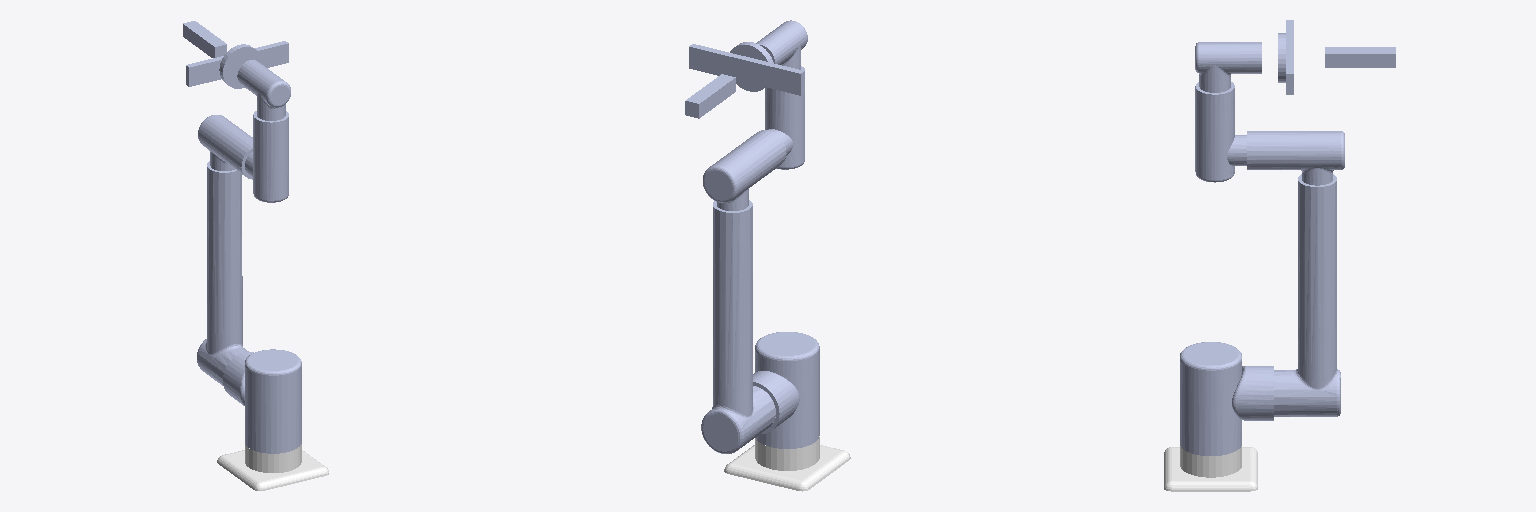
URDF robot description (bobby_v3):
<?xml version="1.0" encoding="utf-8"?>
<!-- This URDF was automatically created by SolidWorks to URDF Exporter! Originally created by Stephen Brawner (brawner@gmail.com) 
     Commit Version: 1.6.0-4-g7f85cfe  Build Version: 1.6.7995.38578
     For more information, please see http://wiki.ros.org/sw_urdf_exporter -->
<robot
  name="bobby_v3">
  <link
    name="base_link">
    <inertial>
      <origin
        xyz="-6.93889390390723E-18 -8.67361737988404E-18 0.00903009179983284"
        rpy="0 0 0" />
      <mass
        value="0.168853238991176" />
      <inertia
        ixx="0.000188908722369925"
        ixy="-5.7902642878712E-21"
        ixz="4.9831826221772E-21"
        iyy="0.000188908722369926"
        iyz="-1.68425616825269E-20"
        izz="0.000347553571686864" />
    </inertial>
    <visual>
      <origin
        xyz="0 0 0"
        rpy="0 0 0" />
      <geometry>
        <mesh
          filename="package://bobby/meshes/base_link.STL" />
      </geometry>
      <material
        name="">
        <color
          rgba="1 1 1 1" />
      </material>
    </visual>
    <collision>
      <origin
        xyz="0 0 0"
        rpy="0 0 0" />
      <geometry>
        <mesh
          filename="package://bobby/meshes/base_link.STL" />
      </geometry>
    </collision>
  </link>
  <link
    name="link_1">
    <inertial>
      <origin
        xyz="-2.15652112519824E-07 0.0107734448420019 0.109157368914489"
        rpy="0 0 0" />
      <mass
        value="0.19567354215977" />
      <inertia
        ixx="0.00036569472644765"
        ixy="3.25955315579442E-10"
        ixz="1.75361435601525E-09"
        iyy="0.000399646100597159"
        iyz="5.8509284245807E-07"
        izz="0.000228564395108126" />
    </inertial>
    <visual>
      <origin
        xyz="0 0 0"
        rpy="0 0 0" />
      <geometry>
        <mesh
          filename="package://bobby/meshes/link_1.STL" />
      </geometry>
      <material
        name="">
        <color
          rgba="0.792156862745098 0.819607843137255 0.933333333333333 1" />
      </material>
    </visual>
    <collision>
      <origin
        xyz="0 0 0"
        rpy="0 0 0" />
      <geometry>
        <mesh
          filename="package://bobby/meshes/link_1.STL" />
      </geometry>
    </collision>
  </link>
  <joint
    name="joint_1"
    type="revolute">
    <origin
      xyz="0 0 0"
      rpy="0 0 0" />
    <parent
      link="base_link" />
    <child
      link="link_1" />
    <axis
      xyz="0 0 1" />
    <limit
      lower="-3.14"
      upper="3.14"
      effort="80"
      velocity="1.5" />
    <dynamics
      damping="0.2" />
  </joint>
  <link
    name="link_2">
    <inertial>
      <origin
        xyz="-1.60868451060114E-08 -0.114041602248857 0.132749921878617"
        rpy="0 0 0" />
      <mass
        value="0.277035202004268" />
      <inertia
        ixx="0.00289478457764281"
        ixy="-1.24048336188053E-09"
        ixz="1.22368569354385E-09"
        iyy="0.000189976410051189"
        iyz="7.94253254153287E-05"
        izz="0.00286373711090803" />
    </inertial>
    <visual>
      <origin
        xyz="0 0 0"
        rpy="0 0 0" />
      <geometry>
        <mesh
          filename="package://bobby/meshes/link_2.STL" />
      </geometry>
      <material
        name="">
        <color
          rgba="0.792156862745098 0.819607843137255 0.933333333333333 1" />
      </material>
    </visual>
    <collision>
      <origin
        xyz="0 0 0"
        rpy="0 0 0" />
      <geometry>
        <mesh
          filename="package://bobby/meshes/link_2.STL" />
      </geometry>
    </collision>
  </link>
  <joint
    name="joint_2"
    type="revolute">
    <origin
      xyz="0 0 0.11"
      rpy="-1.5707963267949 0 0" />
    <parent
      link="link_1" />
    <child
      link="link_2" />
    <axis
      xyz="0 0 1" />
    <limit
      lower="-2"
      upper="2"
      effort="60"
      velocity="1.5" />
    <dynamics
      damping="0.15" />
  </joint>
  <link
    name="link_3">
    <inertial>
      <origin
        xyz="-4.46835846875521E-07 -0.021332834225784 0.336950985055037"
        rpy="0 0 0" />
      <mass
        value="0.104323112073039" />
      <inertia
        ixx="0.000172552084016025"
        ixy="1.24275852401533E-10"
        ixz="-1.16774421742549E-10"
        iyy="5.69008711097092E-05"
        iyz="6.87130934985452E-06"
        izz="0.000165314592613562" />
    </inertial>
    <visual>
      <origin
        xyz="0 0 0"
        rpy="0 0 0" />
      <geometry>
        <mesh
          filename="package://bobby/meshes/link_3.STL" />
      </geometry>
      <material
        name="">
        <color
          rgba="0.792156862745098 0.819607843137255 0.933333333333333 1" />
      </material>
    </visual>
    <collision>
      <origin
        xyz="0 0 0"
        rpy="0 0 0" />
      <geometry>
        <mesh
          filename="package://bobby/meshes/link_3.STL" />
      </geometry>
    </collision>
  </link>
  <joint
    name="joint_3"
    type="revolute">
    <origin
      xyz="0 0 0.135"
      rpy="1.5707963267949 0 0" />
    <parent
      link="link_2" />
    <child
      link="link_3" />
    <axis
      xyz="0 0 -1" />
    <limit
      lower="-2.5"
      upper="2.5"
      effort="40"
      velocity="2" />
    <dynamics
      damping="0.1" />
  </joint>
  <link
    name="link_4">
    <inertial>
      <origin
        xyz="-7.35759638319233E-08 0.0214973669189123 0.127010226840711"
        rpy="0 0 0" />
      <mass
        value="0.104021403954901" />
      <inertia
        ixx="0.000172095228395825"
        ixy="5.22139873101622E-11"
        ixz="-7.41592698784508E-11"
        iyy="5.67379606621111E-05"
        iyz="-6.68507413422721E-06"
        izz="0.000164961710546567" />
    </inertial>
    <visual>
      <origin
        xyz="0 0 0"
        rpy="0 0 0" />
      <geometry>
        <mesh
          filename="package://bobby/meshes/link_4.STL" />
      </geometry>
      <material
        name="">
        <color
          rgba="0.792156862745098 0.819607843137255 0.933333333333333 1" />
      </material>
    </visual>
    <collision>
      <origin
        xyz="0 0 0"
        rpy="0 0 0" />
      <geometry>
        <mesh
          filename="package://bobby/meshes/link_4.STL" />
      </geometry>
    </collision>
  </link>
  <joint
    name="joint_4"
    type="revolute">
    <origin
      xyz="0 0.000262563950500366 0.34"
      rpy="1.5707963267949 0 0" />
    <parent
      link="link_3" />
    <child
      link="link_4" />
    <axis
      xyz="0 0 -1" />
    <limit
      lower="-3.14"
      upper="3.14"
      effort="20"
      velocity="3" />
    <dynamics
      damping="0.05" />
  </joint>
  <link
    name="link_5">
    <inertial>
      <origin
        xyz="-7.72747078825464E-09 0.0118852064404541 0.124078122231419"
        rpy="0 0 0" />
      <mass
        value="0.0635312499775335" />
      <inertia
        ixx="5.3078651829625E-05"
        ixy="-2.16462957974075E-11"
        ixz="-2.18923663634894E-11"
        iyy="2.59966766341151E-05"
        iyz="-4.43828682190682E-06"
        izz="4.66910033521407E-05" />
    </inertial>
    <visual>
      <origin
        xyz="0 0 0"
        rpy="0 0 0" />
      <geometry>
        <mesh
          filename="package://bobby/meshes/link_5.STL" />
      </geometry>
      <material
        name="">
        <color
          rgba="0.792156862745098 0.819607843137255 0.933333333333333 1" />
      </material>
    </visual>
    <collision>
      <origin
        xyz="0 0 0"
        rpy="0 0 0" />
      <geometry>
        <mesh
          filename="package://bobby/meshes/link_5.STL" />
      </geometry>
    </collision>
  </link>
  <joint
    name="joint_5"
    type="revolute">
    <origin
      xyz="0 -0.000178126389957234 0.13"
      rpy="-1.5707963267949 0 0" />
    <parent
      link="link_4" />
    <child
      link="link_5" />
    <axis
      xyz="0 0 -1" />
    <limit
      lower="-2"
      upper="2"
      effort="15"
      velocity="3.5" />
    <dynamics
      damping="0.05" />
  </joint>
  <link
    name="link_6">
    <inertial>
      <origin
        xyz="-9.09411435046081E-14 -4.99933427988708E-13 0.00443393044915172"
        rpy="0 0 0" />
      <mass
        value="0.0247796339074861" />
      <inertia
        ixx="5.79719477129161E-06"
        ixy="1.69371937738642E-21"
        ixz="-1.74584771115396E-21"
        iyy="5.61206813663289E-06"
        iyz="1.25047386620786E-20"
        izz="8.2664668127508E-06" />
    </inertial>
  </link>
  <joint
    name="joint_6"
    type="revolute">
    <origin
      xyz="0 0.0700000000012193 0.129999999999002"
      rpy="-1.57079632679489 0 0" />
    <parent
      link="link_5" />
    <child
      link="link_6" />
    <axis
      xyz="0 0 -1" />
    <limit
      lower="-3.14"
      upper="3.14"
      effort="10"
      velocity="4" />
    <dynamics
      damping="0.03" />
  </joint>
  <!-- ===================== Parallelbackengreifer (an link_5) ===================== -->
  <!-- Flanschplatte -->
  <link name="gripper_flange">
    <inertial>
      <origin xyz="0 0 0.005" rpy="0 0 0"/>
      <mass value="0.2"/>
      <inertia ixx="6.782e-05" ixy="0" ixz="0" iyy="6.782e-05" iyz="0" izz="1.323e-04"/>
    </inertial>
    <visual>
      <origin xyz="0 0 0.005" rpy="0 0 0"/>
      <geometry><cylinder radius="0.0315" length="0.01"/></geometry>
      <material name="gripper_grey"><color rgba="0.792156862745098 0.819607843137255 0.933333333333333 1"/></material>
    </visual>
    <collision>
      <origin xyz="0 0 0.005" rpy="0 0 0"/>
      <geometry><cylinder radius="0.0315" length="0.01"/></geometry>
    </collision>
  </link>
  <joint name="gripper_flange_joint" type="fixed">
    <origin xyz="0 0 0.01" rpy="0 0 0"/>
    <parent link="link_6"/>
    <child link="gripper_flange"/>
    <axis xyz="0 0 0"/>
  </joint>

  <!-- Greiferkörper -->
  <link name="gripper_base">
    <inertial>
      <origin xyz="0 0 0.015" rpy="0 0 0"/>
      <mass value="0.045"/>
      <inertia ixx="3.75e-06" ixy="0" ixz="0" iyy="9.638e-05" iyz="0" izz="9.938e-05"/>
    </inertial>
    <visual>
      <origin xyz="0 0 0.015" rpy="0 0 0"/>
      <geometry><box size="0.16 0.03 0.01"/></geometry>
      <material name="gripper_grey"/>
    </visual>
    <collision>
      <origin xyz="0 0 0.015" rpy="0 0 0"/>
      <geometry><box size="0.16 0.03 0.01"/></geometry>
    </collision>
  </link>
  <joint name="gripper_base_joint" type="fixed">
    <origin xyz="0 0 0" rpy="0 0 0"/>
    <parent link="gripper_flange"/>
    <child link="gripper_base"/>
    <axis xyz="0 0 0"/>
  </joint>

  <!-- Linke Backe (angetrieben) -->
  <link name="finger_left">
    <inertial>
      <origin xyz="0 0 0.045" rpy="0 0 0"/>
      <mass value="0.05"/>
      <inertia ixx="3.542e-05" ixy="0" ixz="0" iyy="3.417e-05" iyz="0" izz="2.083e-06"/>
    </inertial>
    <visual>
      <origin xyz="0 0 0.045" rpy="0 0 0"/>
      <geometry><box size="0.01 0.02 0.09"/></geometry>
      <material name="gripper_grey"/>
    </visual>
    <collision>
      <origin xyz="0 0 0.045" rpy="0 0 0"/>
      <geometry><box size="0.01 0.02 0.09"/></geometry>
    </collision>
  </link>
  <joint name="finger_left_joint" type="prismatic">
    <origin xyz="0.005 0 0.060000000000000005" rpy="0 0 0"/>
    <parent link="gripper_base"/>
    <child link="finger_left"/>
    <axis xyz="1 0 0"/>
    <limit lower="0" upper="0.075" effort="50" velocity="0.1"/>
    <dynamics damping="5.0"/>
  </joint>

  <!-- Rechte Backe (gegenläufig gekoppelt) -->
  <link name="finger_right">
    <inertial>
      <origin xyz="0 0 0.045" rpy="0 0 0"/>
      <mass value="0.05"/>
      <inertia ixx="3.542e-05" ixy="0" ixz="0" iyy="3.417e-05" iyz="0" izz="2.083e-06"/>
    </inertial>
    <visual>
      <origin xyz="0 0 0.045" rpy="0 0 0"/>
      <geometry><box size="0.01 0.02 0.09"/></geometry>
      <material name="gripper_grey"/>
    </visual>
    <collision>
      <origin xyz="0 0 0.045" rpy="0 0 0"/>
      <geometry><box size="0.01 0.02 0.09"/></geometry>
    </collision>
  </link>
  <joint name="finger_right_joint" type="prismatic">
    <origin xyz="-0.005 0 0.060000000000000005" rpy="0 0 0"/>
    <parent link="gripper_base"/>
    <child link="finger_right"/>
    <axis xyz="1 0 0"/>
    <limit lower="-0.075" upper="0" effort="50" velocity="0.1"/>
    <mimic joint="finger_left_joint" multiplier="-1" offset="0"/>
    <dynamics damping="5.0"/>
  </joint>

  <!-- TCP: mittig zwischen den Backen, an der Backenspitze -->
  <link name="TCP"/>
  <joint name="TCP_joint" type="fixed">
    <origin xyz="0 0 0.15" rpy="0 0 0"/>
    <parent link="gripper_base"/>
    <child link="TCP"/>
    <axis xyz="0 0 0"/>
  </joint>
</robot>

--- Render facts (derived) ---
Views: 3 orthographic renders of the robot side by side, from view 1: azimuth 30°, elevation 25°; view 2: azimuth 150°, elevation 25°; view 3: azimuth 270°, elevation 25°.
Robot: bobby_v3 — 12 links, 11 joints (6 revolute, 2 prismatic, 3 fixed); root link base_link; default pose: every joint at zero.
Visible links, largest first — view 1: link_2, link_1, link_4, base_link, link_3, link_5, gripper_base, gripper_flange, finger_right; view 2: link_2, link_1, base_link, link_3, gripper_base, link_4, link_5, finger_right, gripper_flange; view 3: link_2, link_1, link_3, link_4, base_link, link_5, finger_left, gripper_base.
Link boxes in pixels (x1=…): link_2: x1=197, y1=161, x2=248, y2=385; link_1: x1=223, y1=349, x2=301, y2=453; link_4: x1=245, y1=111, x2=288, y2=202; base_link: x1=217, y1=444, x2=328, y2=490; link_3: x1=198, y1=115, x2=252, y2=179; link_5: x1=237, y1=60, x2=290, y2=120; gripper_base: x1=186, y1=41, x2=288, y2=86; gripper_flange: x1=219, y1=44, x2=261, y2=88; finger_right: x1=183, y1=22, x2=220, y2=57; link_2: x1=701, y1=200, x2=775, y2=453; link_1: x1=753, y1=332, x2=819, y2=448; base_link: x1=724, y1=436, x2=850, y2=491; link_3: x1=703, y1=130, x2=786, y2=210; gripper_base: x1=689, y1=44, x2=804, y2=95; link_4: x1=765, y1=66, x2=804, y2=169; link_5: x1=756, y1=20, x2=807, y2=69; finger_right: x1=692, y1=76, x2=735, y2=118; gripper_flange: x1=730, y1=42, x2=773, y2=91; link_2: x1=1274, y1=174, x2=1340, y2=416; link_1: x1=1180, y1=342, x2=1273, y2=455; link_3: x1=1247, y1=131, x2=1344, y2=185; link_4: x1=1195, y1=82, x2=1246, y2=182; base_link: x1=1164, y1=446, x2=1257, y2=491; link_5: x1=1195, y1=42, x2=1261, y2=92; finger_left: x1=1325, y1=51, x2=1395, y2=67; gripper_base: x1=1286, y1=20, x2=1293, y2=94.
Bounding box of the posed robot: 0.16 × 0.2953 × 0.6113 m (x, y, z).
Meshes: 6 distinct files referenced, 6 mesh visuals loaded (6 binary STL).
